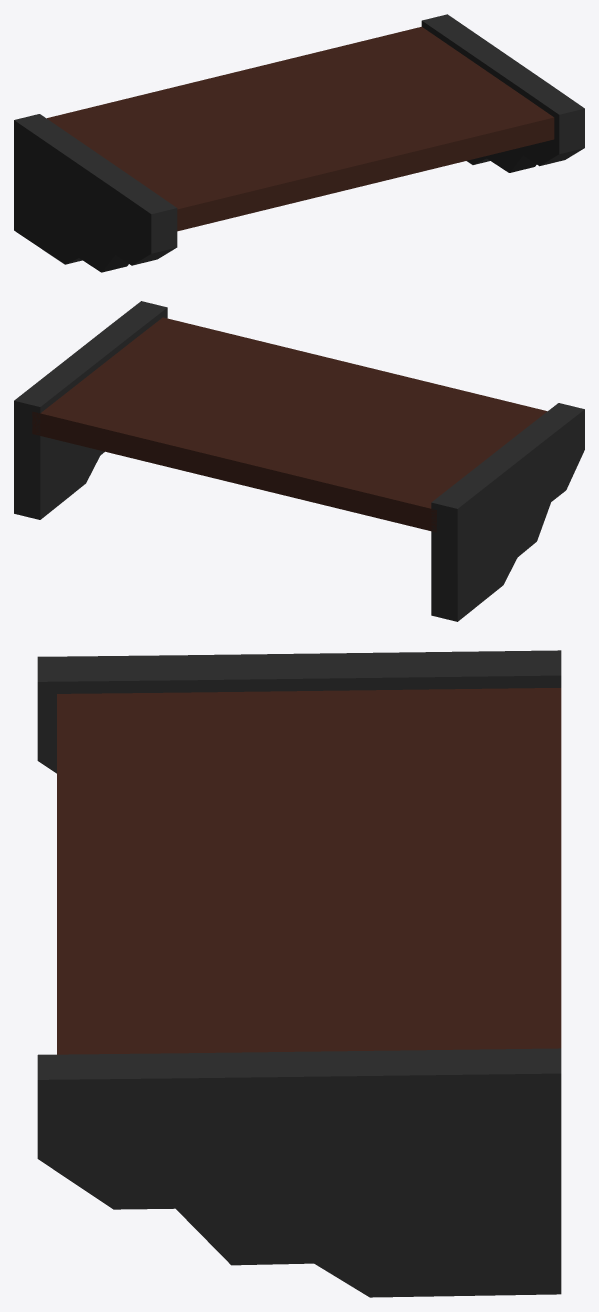
The model's file is Wall_Shelf_Small.fbx.
The picture shows the model from 3 angles, top to bottom: view 1: azimuth 30°, elevation 25°; view 2: azimuth 150°, elevation 25°; view 3: azimuth 270°, elevation 25°; orthographic projection. The views are drawn at different scales.
Visible parts, largest first — view 1: Wall_Shelf_Small; view 2: Wall_Shelf_Small; view 3: Wall_Shelf_Small.
Boxes of the visible parts, x1,y1,x2,y2 form: Wall_Shelf_Small: (14, 14, 584, 272); Wall_Shelf_Small: (14, 301, 584, 621); Wall_Shelf_Small: (37, 650, 561, 1297).
Bounding box in the file's own units: 110 × 26.37 × 56.69.
